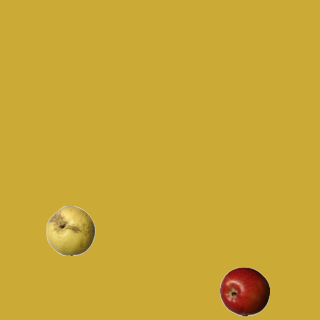Apple Braeburn: (219, 266, 269, 316)
Apple Golden 1: (45, 205, 95, 255)
